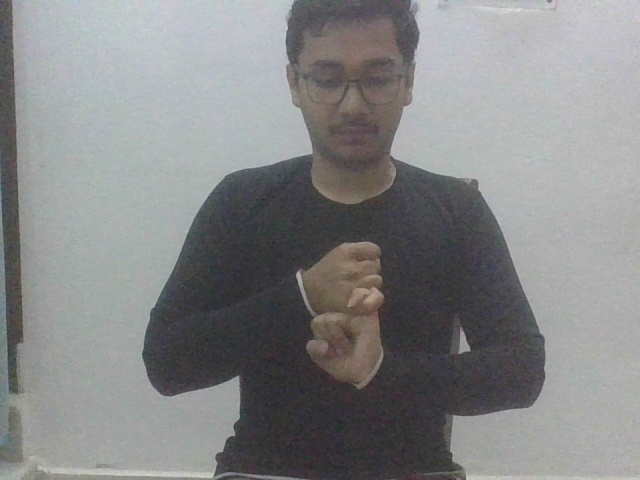S: (299, 233, 388, 390)
